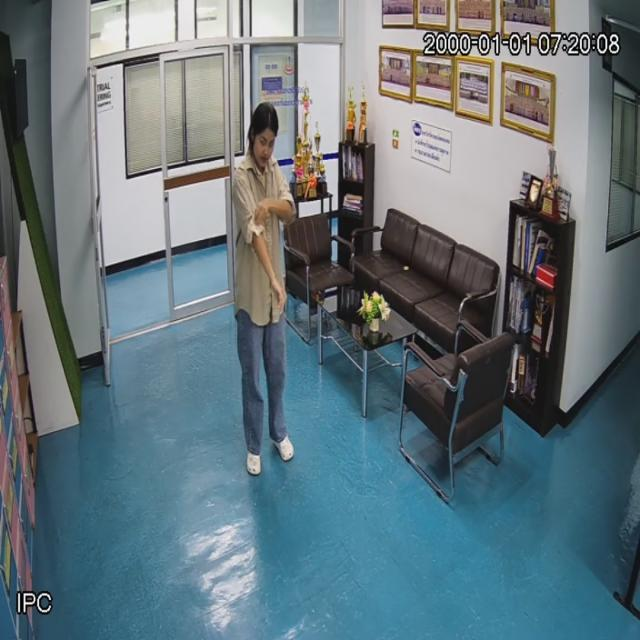normal: (230, 102, 295, 465)
